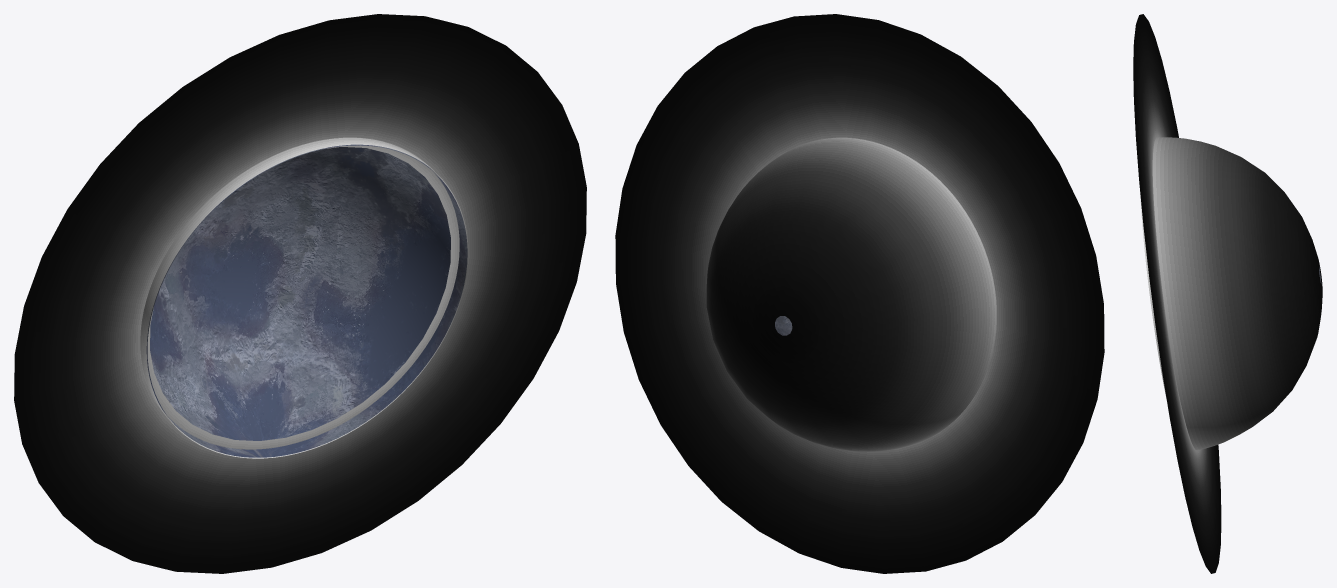
The model's file is env_space_vandor_01_pre.glb.
3 views of the same model, side by side, from view 1: azimuth 30°, elevation 25°; view 2: azimuth 150°, elevation 25°; view 3: azimuth 270°, elevation 25° (orthographic). The views are drawn at different scales.
Visible parts, largest first — view 1: planet_glow_mesh, planet_body_mesh, planet_fresnel_mesh; view 2: planet_glow_mesh, planet_fresnel_mesh; view 3: planet_fresnel_mesh, planet_glow_mesh.
Boxes of the visible parts, x1,y1,x2,y2 form: planet_glow_mesh: (14,14,586,573); planet_body_mesh: (146,144,467,457); planet_fresnel_mesh: (140,137,468,458); planet_glow_mesh: (615,14,1104,573); planet_fresnel_mesh: (706,137,996,451); planet_fresnel_mesh: (1140,137,1322,450); planet_glow_mesh: (1133,14,1221,573).
Size of the model in its own units: 1510 by 1492 by 506.
Materials: 3 (3 with a texture image).
